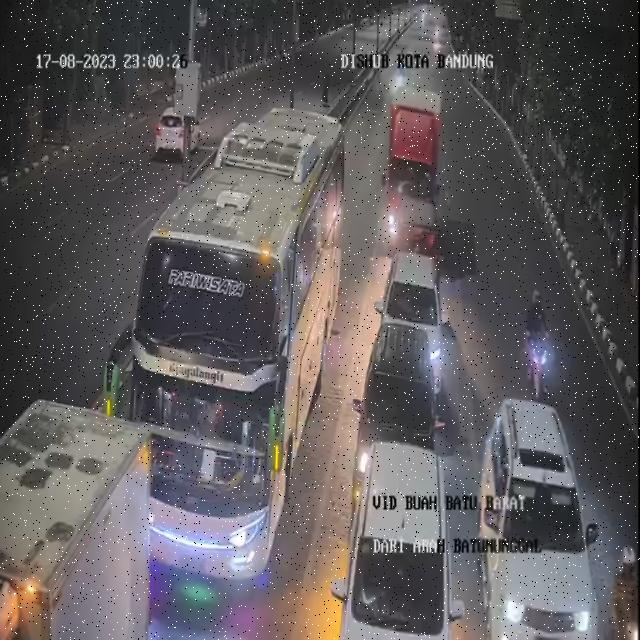bus: (132, 160, 290, 592)
cars: (0, 409, 153, 639), (473, 379, 585, 640), (336, 440, 464, 637), (352, 324, 442, 469), (376, 250, 451, 376)
motorcycle: (517, 287, 551, 400), (610, 538, 640, 640)
truck: (379, 81, 443, 265)
